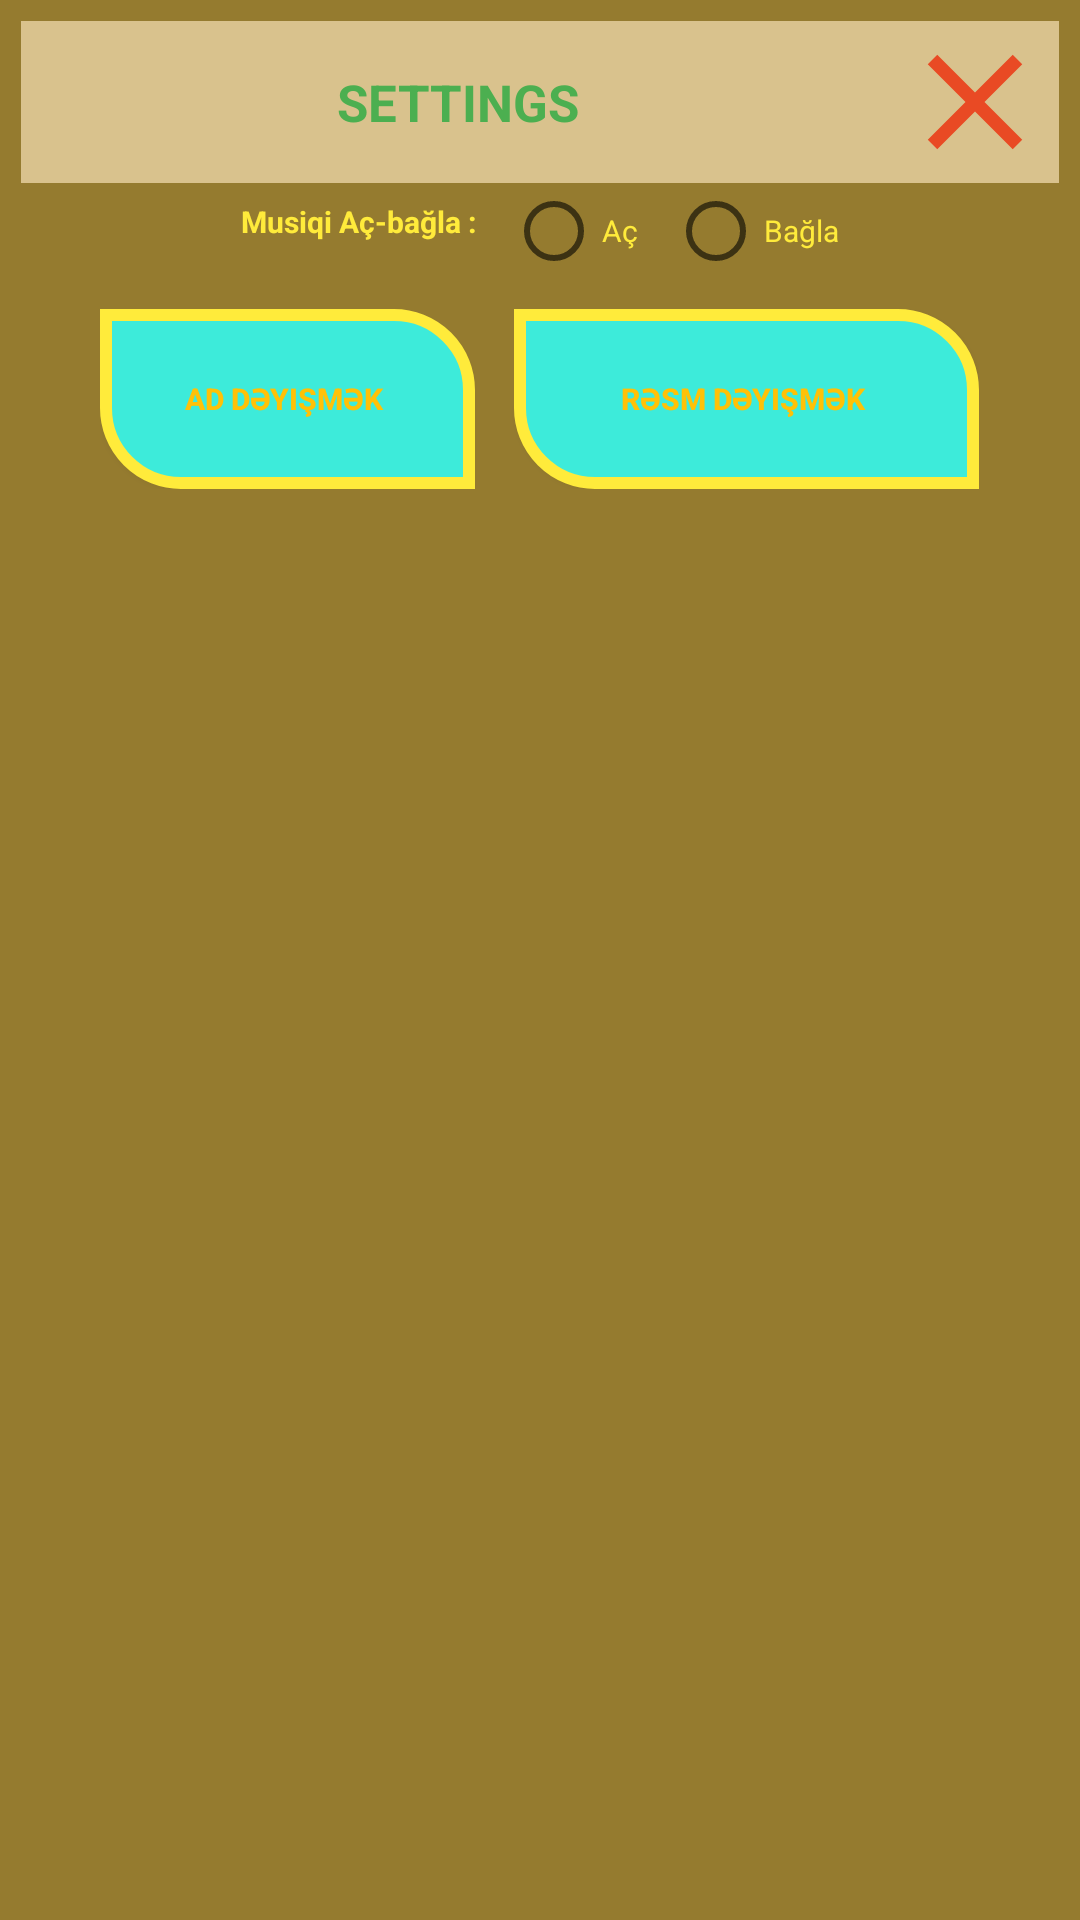

Icons on this 1080x1920 Android screen, each with its box as [left=x1, top=y1, right=x2, bottom=y2]:
closed: [left=928, top=55, right=1022, bottom=149]
